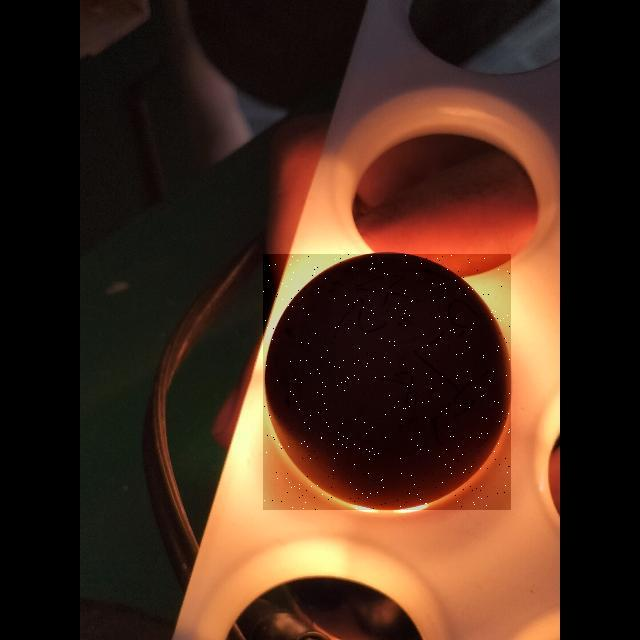Fertile: (263, 254, 511, 510)
